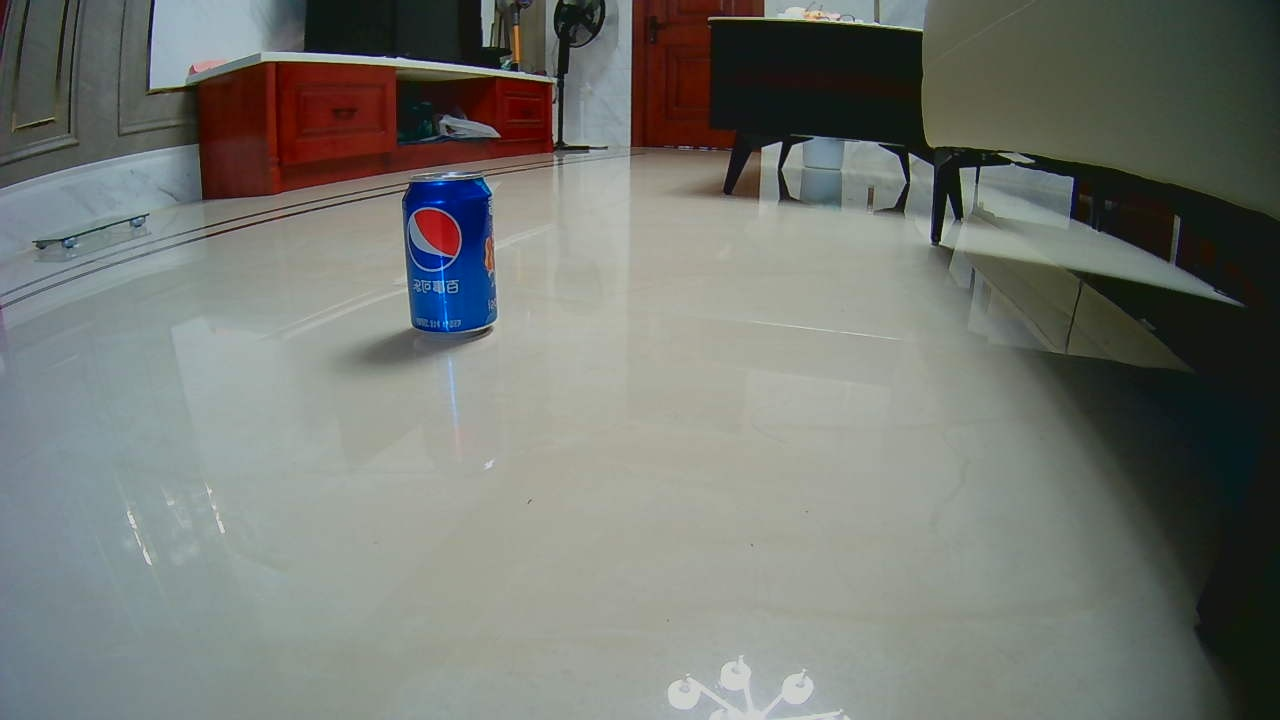pessi: (402, 176, 500, 336)
